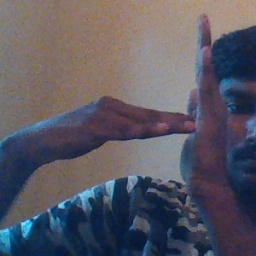Z: (107, 12, 230, 200)
